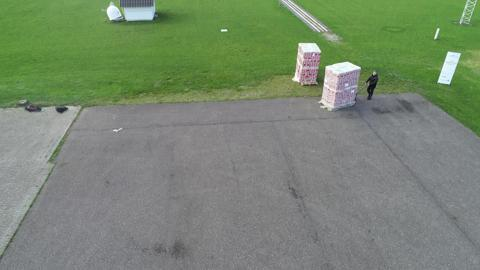RockwoolPallet: (293, 43, 319, 86)
